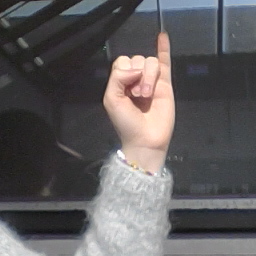I: (103, 30, 180, 146)
